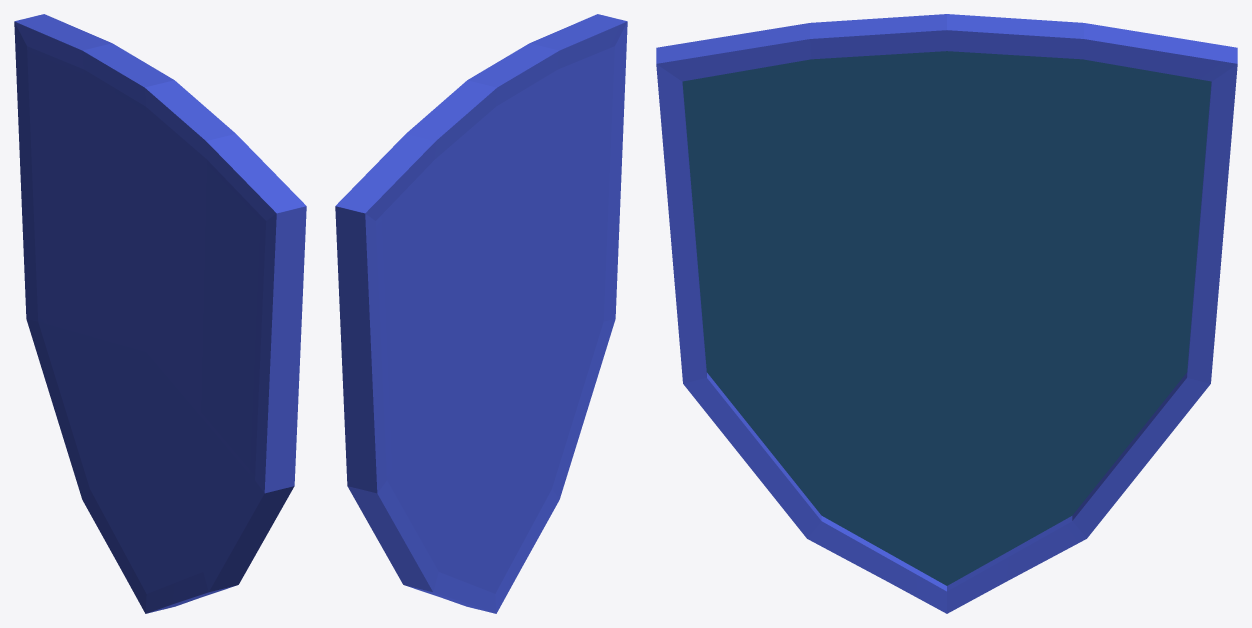
The model's file is escudo1.glb.
3 views of the same model, side by side, from view 1: azimuth 30°, elevation 25°; view 2: azimuth 150°, elevation 25°; view 3: azimuth 270°, elevation 25° (orthographic). The views are drawn at different scales.
Parts seen in each view (by area): view 1: Plane; view 2: Plane; view 3: Plane.
Part boxes in pixels (x1,y1,x2,y2): Plane: [14, 14, 306, 613]; Plane: [335, 14, 627, 613]; Plane: [656, 14, 1237, 613].
Size of the model in its own units: 0.1349 by 2.18 by 1.97.
